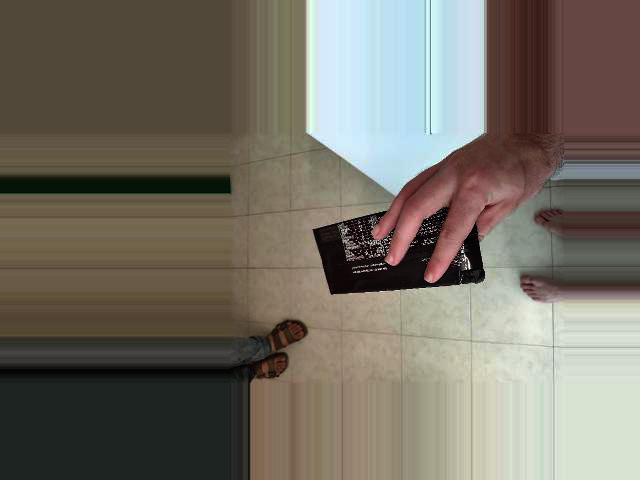chocolate: (314, 209, 425, 387)
